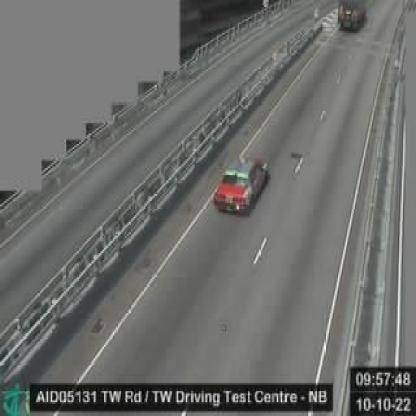Car: (212, 154, 270, 216)
Truck: (339, 0, 370, 30)
